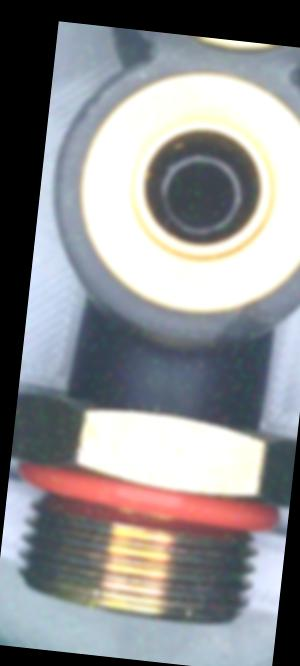joint line: (165, 355, 175, 394)
